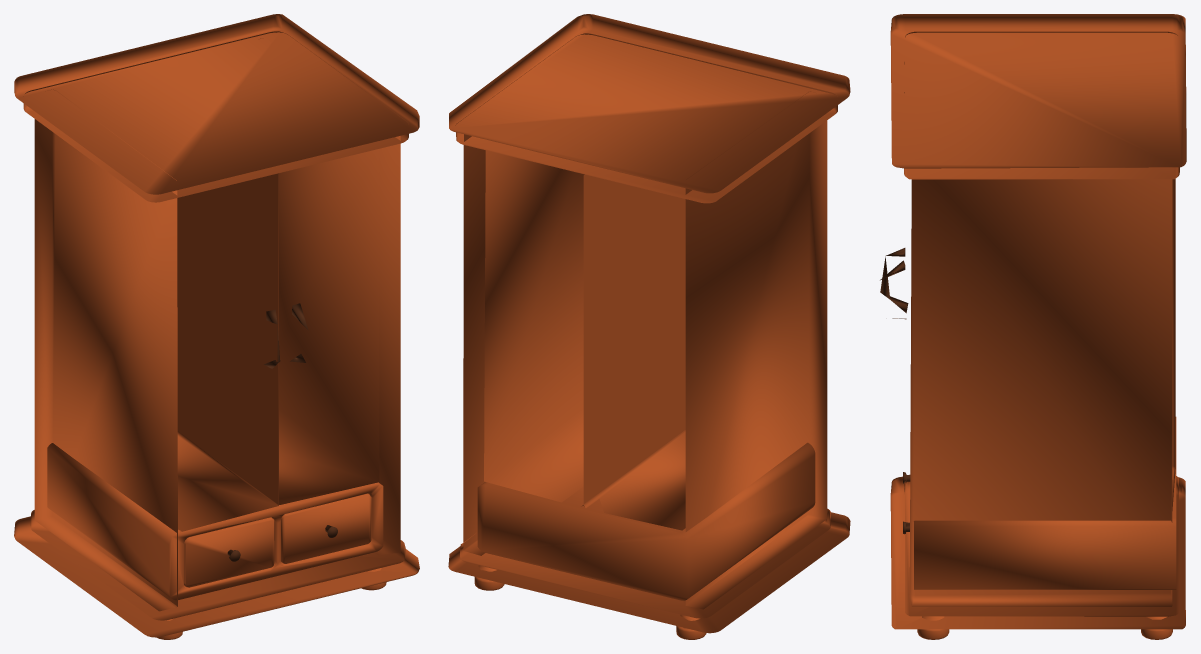
Rendered from Wardrobe.glb.
3 views of the same model, side by side, from view 1: azimuth 30°, elevation 25°; view 2: azimuth 150°, elevation 25°; view 3: azimuth 270°, elevation 25° (orthographic). The views are drawn at different scales.
Visible parts, largest first — view 1: 3d66-Editable_Poly-22454136-037, 3d66-Editable_Poly-22454136-042; view 2: 3d66-Editable_Poly-22454136-037; view 3: 3d66-Editable_Poly-22454136-037, 3d66-Editable_Poly-22454136-042.
Part boxes in pixels (box(x1,y1,x2,y2)): 3d66-Editable_Poly-22454136-037: box(14, 14, 419, 639); 3d66-Editable_Poly-22454136-042: box(227, 303, 337, 561); 3d66-Editable_Poly-22454136-037: box(448, 14, 850, 639); 3d66-Editable_Poly-22454136-037: box(890, 14, 1186, 639); 3d66-Editable_Poly-22454136-042: box(880, 248, 910, 534).
Size of the model in its own units: 0.8296 by 1.38 by 0.774.
